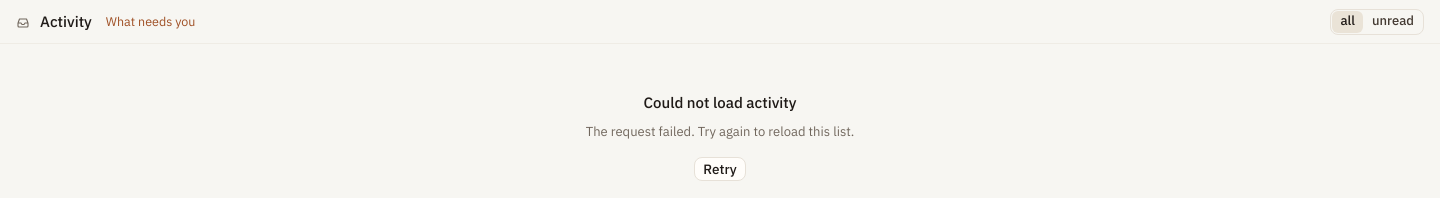
retryable list load errors › retries Activity without losing the unread filter
The image size is (1440, 198).
Check: the heading "Could not load activity" is shown, box [644,92,796,114]
Click the tab "unread" at (1393, 22), box [1364,10,1422,32]
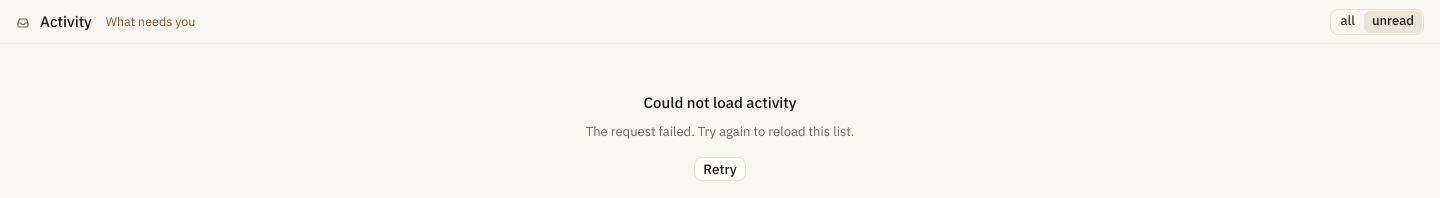
Check: the heading "Could not load activity" is shown, box [644,92,796,114]
Click the button "Retry" at (720, 169), box [694,157,746,181]
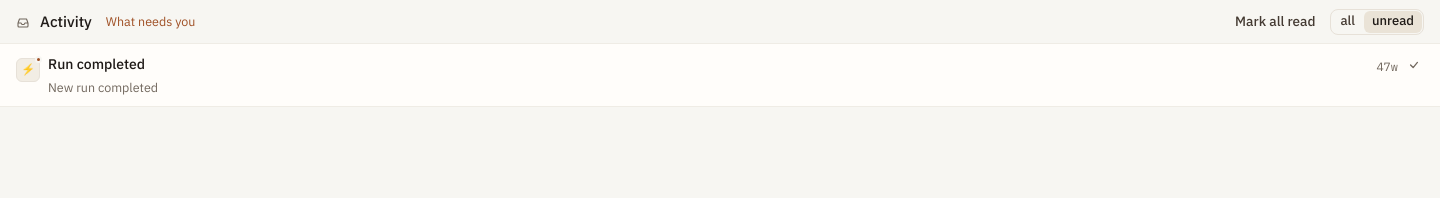
Check: the text "New run completed" is shown, box [48,79,158,95]
